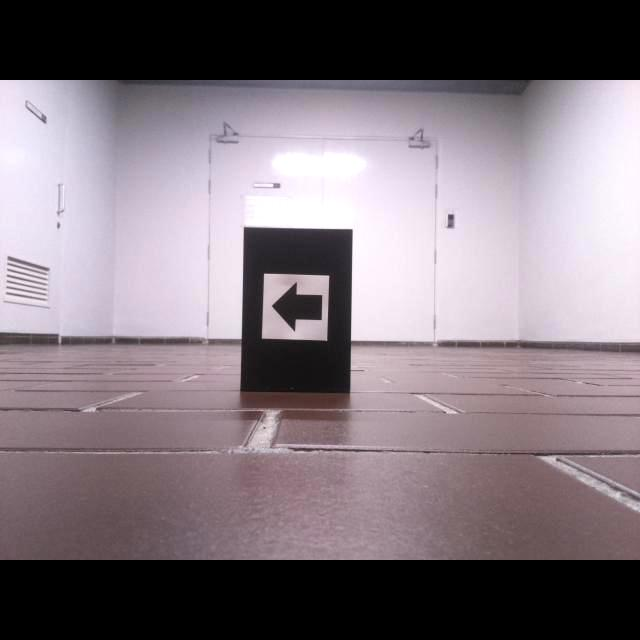LEFT: (271, 281, 323, 333)
